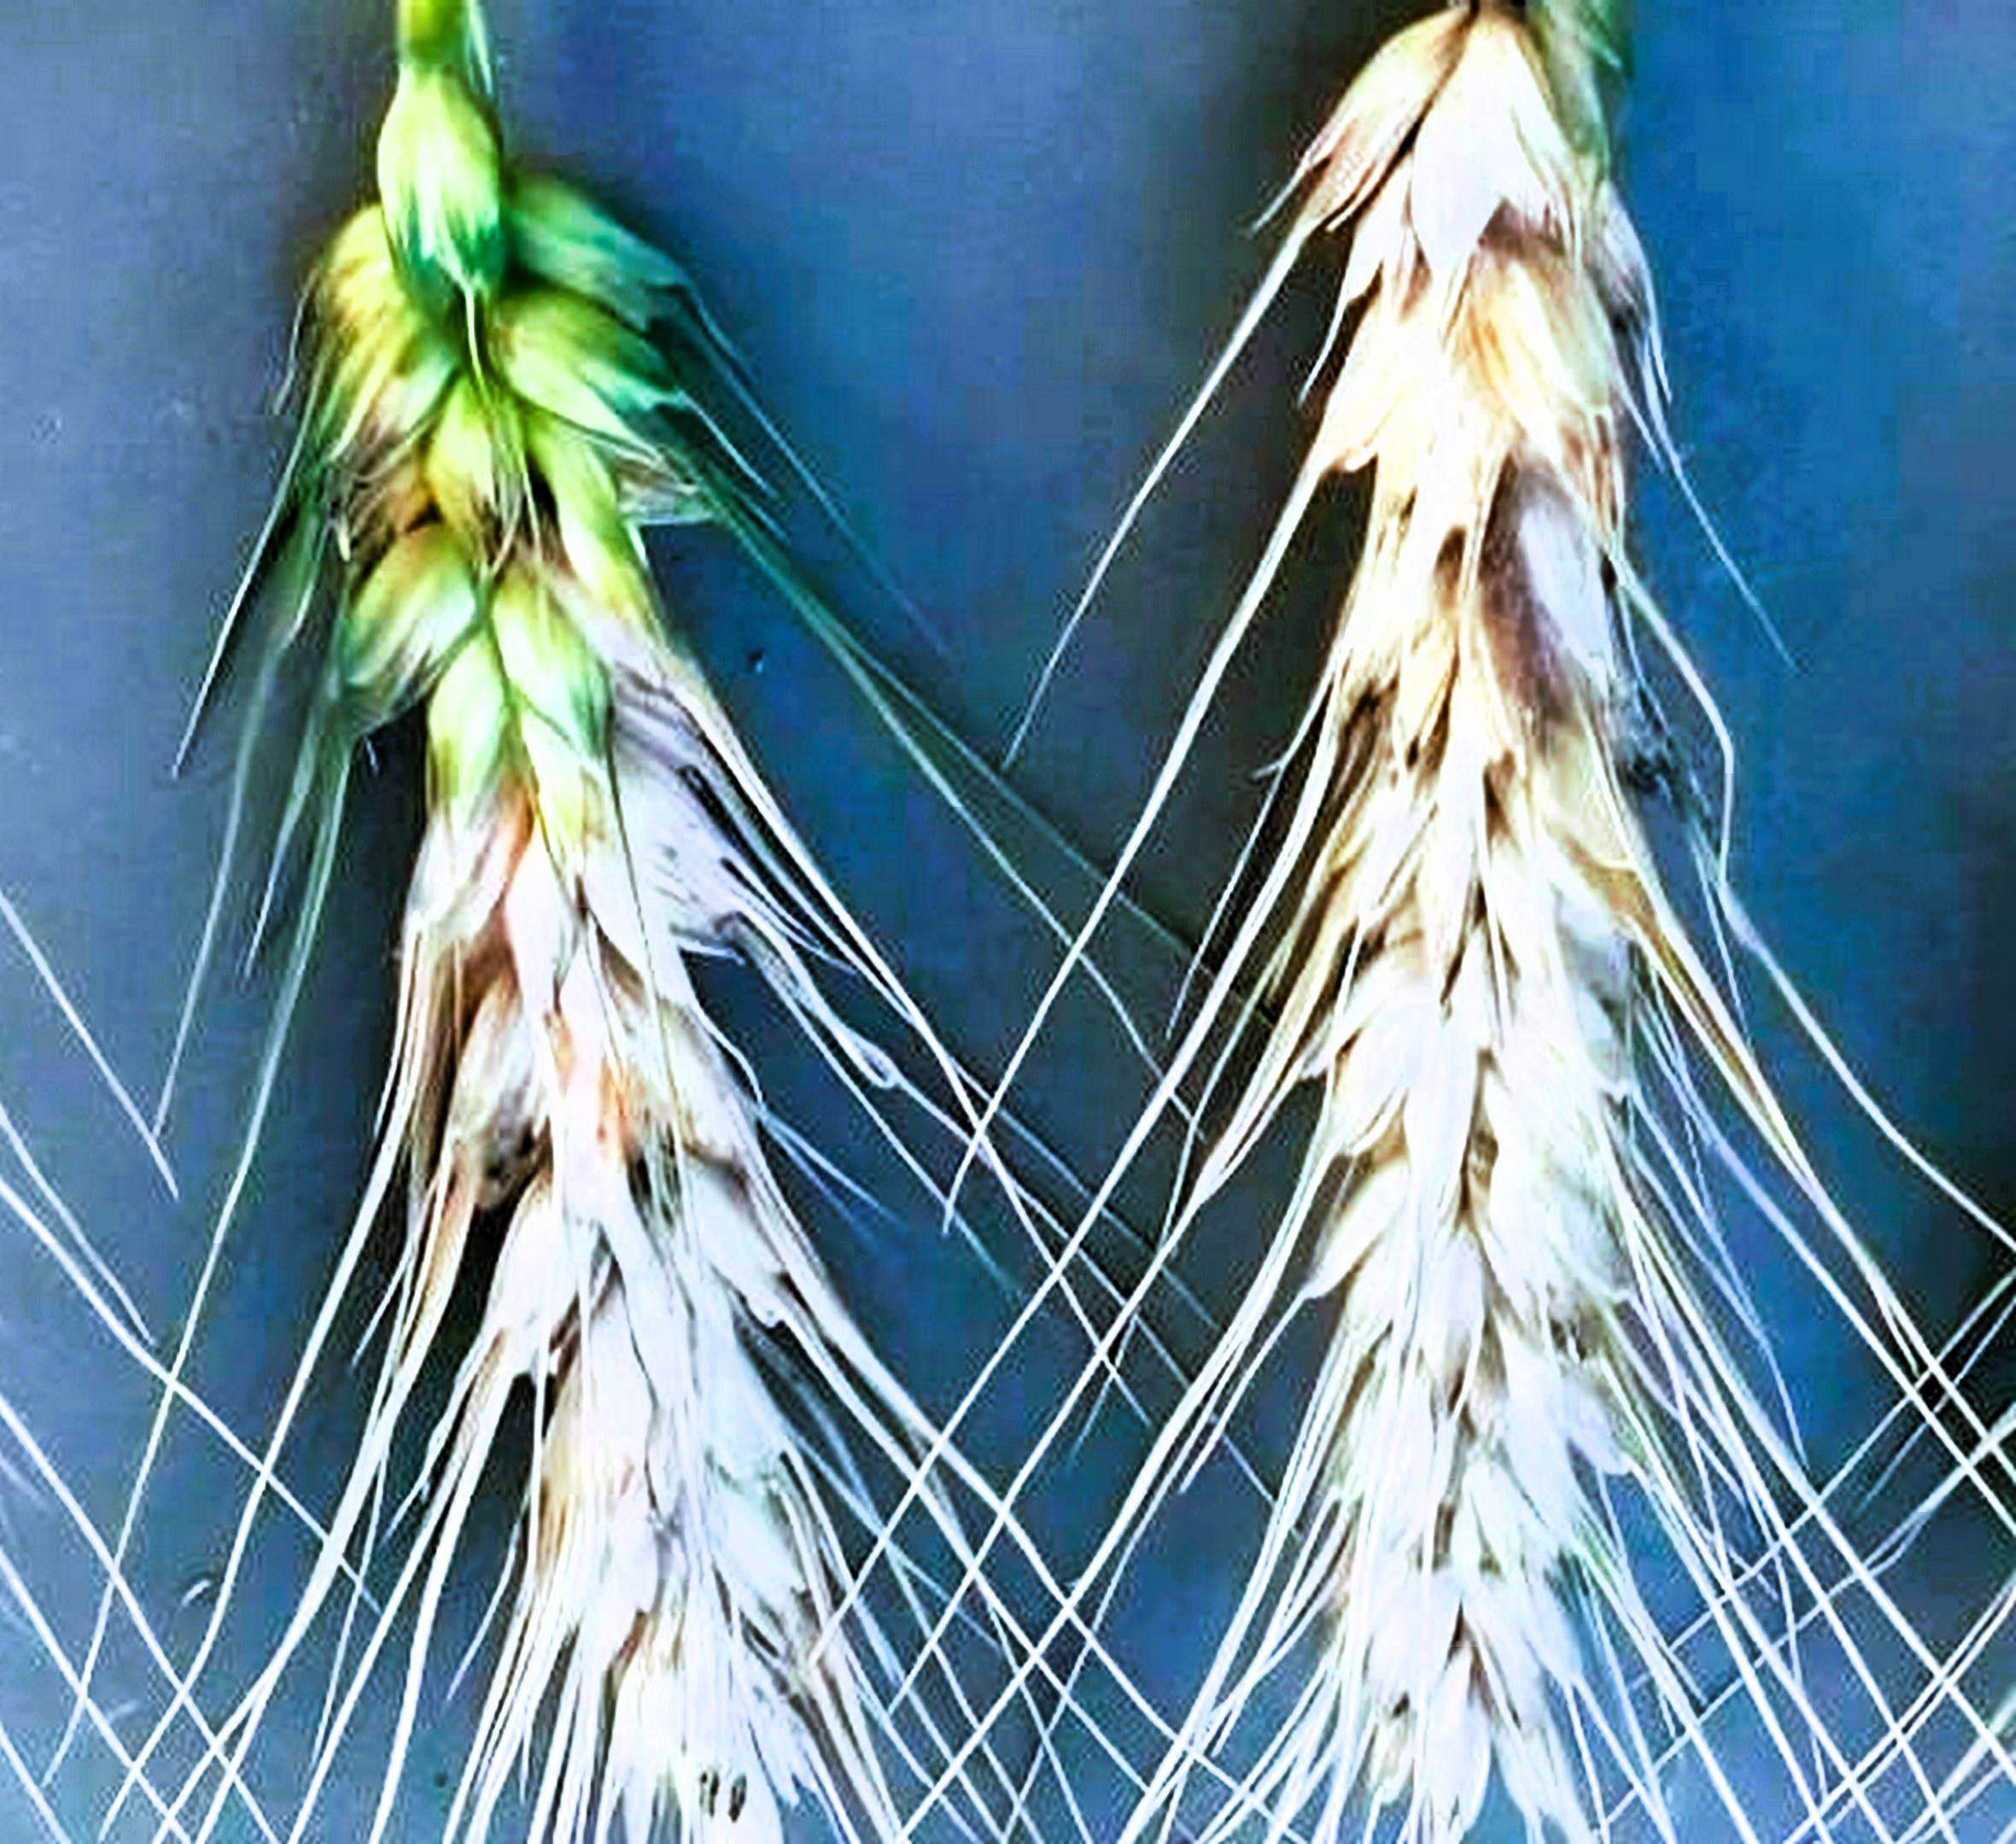Wheat scab: (306, 184, 857, 1777)
